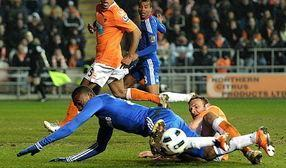Fall-Detected: (165, 90, 271, 163)
